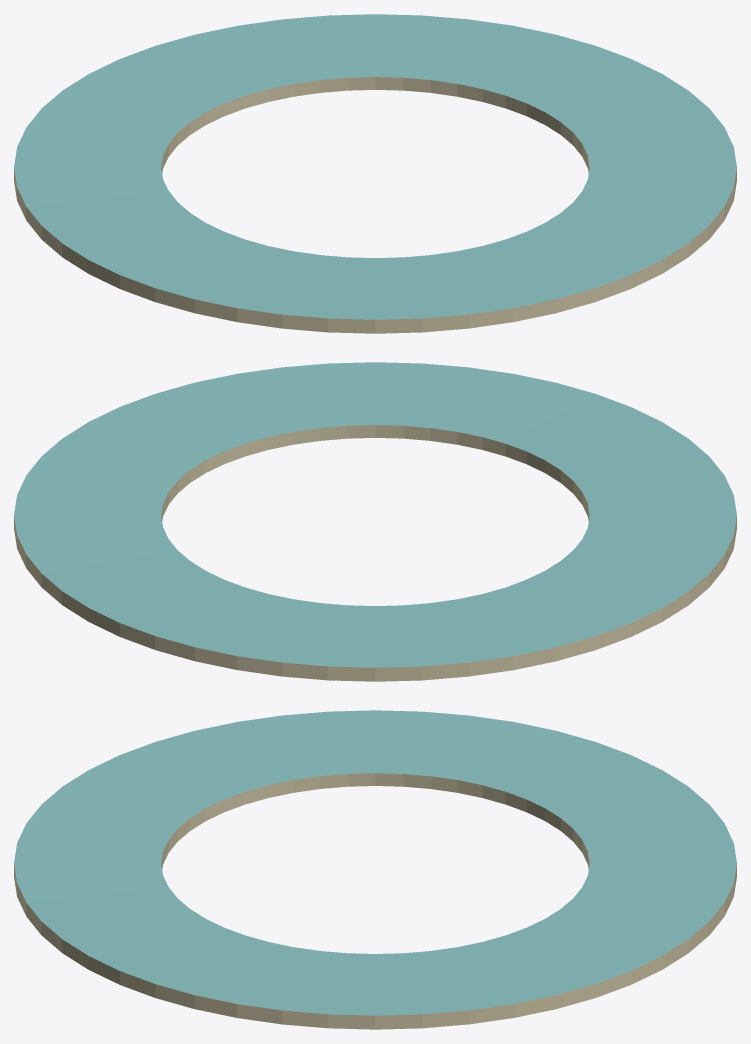
File: CGround.gltf
3 views of the same model, one above another, from view 1: azimuth 30°, elevation 25°; view 2: azimuth 150°, elevation 25°; view 3: azimuth 270°, elevation 25° (orthographic).
Visible parts, largest first — view 1: Circle; view 2: Circle; view 3: Circle.
Boxes of the visible parts, box(x1,y1,x2,y2) form: Circle: box(14, 14, 736, 333); Circle: box(14, 362, 736, 681); Circle: box(14, 710, 736, 1029).
Size of the model in its own units: 60.83 by 1.31 by 60.83.
